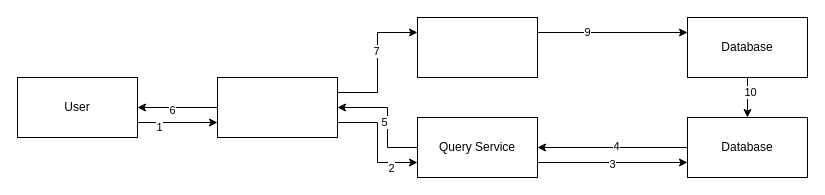
The diagram is 825 pixels wide and 195 high, and some of its shapes have lost their labels. The centre of each missing label's shape, as x and y in pixels:
"Processing Service" belongs at (x=477, y=47).
"Webpage" belongs at (x=277, y=107).
